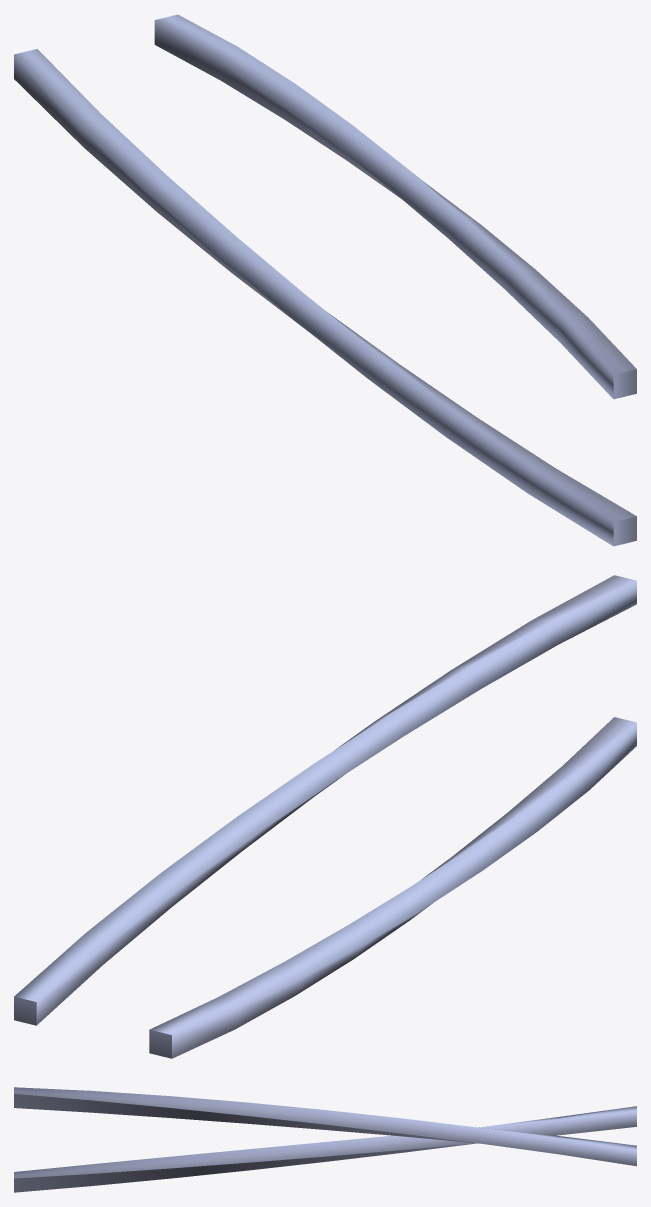
Rendered from kenney-train-railroad-rail-straight-skew-right-side.glb.
3 views of the same model, one above another, from view 1: azimuth 30°, elevation 25°; view 2: azimuth 150°, elevation 25°; view 3: azimuth 270°, elevation 25° (orthographic). The views are drawn at different scales.
Parts seen in each view (by area): view 1: railroad-rail-straight-skew-right-side; view 2: railroad-rail-straight-skew-right-side; view 3: railroad-rail-straight-skew-right-side.
Boxes of the visible parts, bbox=[...] form: railroad-rail-straight-skew-right-side: bbox=[14, 14, 636, 546]; railroad-rail-straight-skew-right-side: bbox=[14, 575, 636, 1058]; railroad-rail-straight-skew-right-side: bbox=[14, 1087, 636, 1192].
Size of the model in its own units: 0.7134 by 0.7134 by 4.
Materials: 1 (1 with a texture image).
